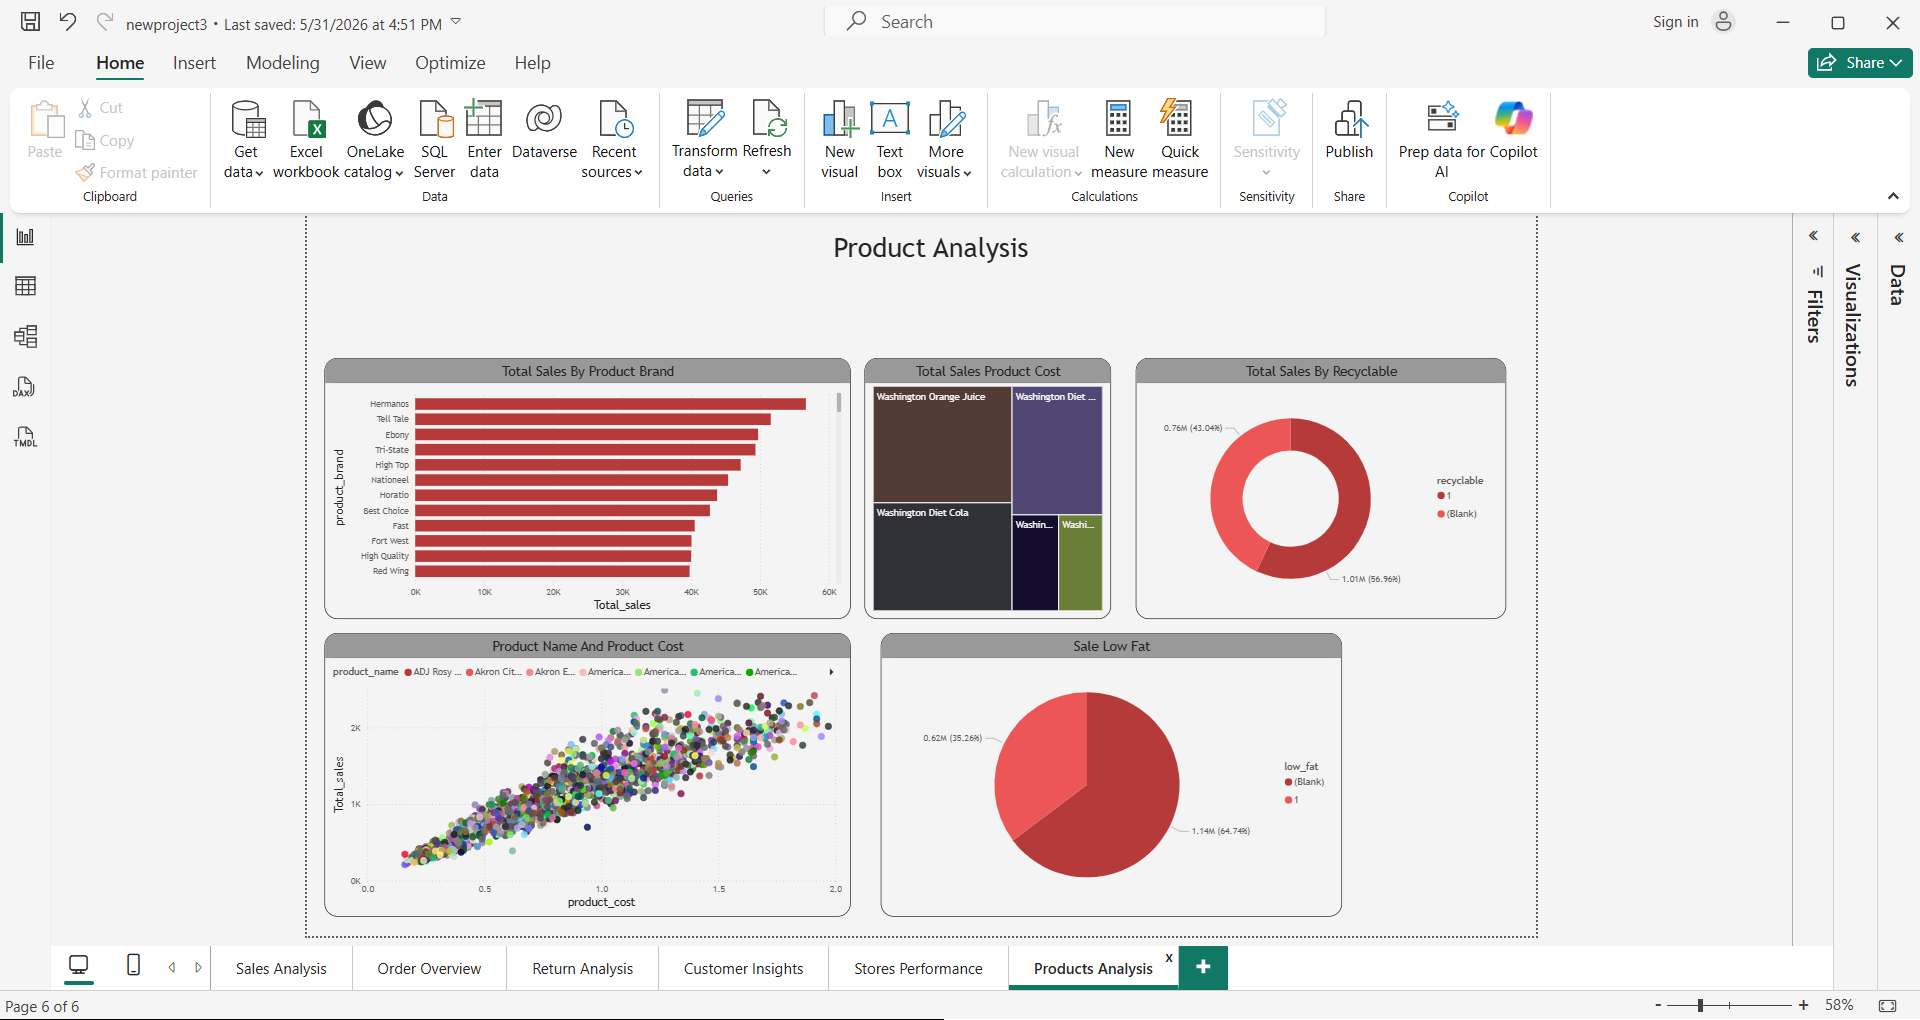

The dashboard page shown, as its layout file describes it:
{"tool":"powerbi","page":{"name":"Products Analysis ","canvas":[1700,1000],"ordinal":5},"visuals":[{"type":"treemap","title":"Total Sales Product Cost ","fields":{"Group":["Products.product_name"],"Values":["Transaction1997.Total_sales"]},"box":[770.9,200.5,340.8,360.9],"z":0},{"type":"barChart","title":"Total Sales By Product Brand ","fields":{"Category":["Products.product_brand"],"Y":["Transaction1997.Total_sales"]},"box":[23.7,200.5,727.2,360.9],"z":1000},{"type":"scatterChart","title":"Product Name And Product Cost ","fields":{"X":["Products.product_cost"],"Y":["Transaction1997.Total_sales"],"Series":["Products.product_name"]},"box":[23.7,581.4,727.2,391.8],"z":2000},{"type":"pieChart","title":"Sale Low Fat ","fields":{"Category":["Products.low_fat"],"Y":["Transaction1997.Total_sales"]},"box":[792.8,581.4,637.9,391.8],"z":3000},{"type":"donutChart","title":"Total Sales By Recyclable ","fields":{"Category":["Products.recyclable"],"Y":["Transaction1997.Total_sales"]},"box":[1146.3,200.5,512.1,360.9],"z":4000},{"type":"textbox","title":"Product Analysis ","box":[23.7,25.5,1676.7,123.9],"z":5000}]}

Visuals, with their boxes on the page's 1700x1000 design canvas (x1, y1, x2, y2). These are canvas units, not pixel positions in the 1920x1020 screenshot, which may show the page scaled, cropped or inside an application window:
"Total Sales Product Cost " treemap: 771 200 1112 561
"Total Sales By Product Brand " barChart: 24 200 751 561
"Product Name And Product Cost " scatterChart: 24 581 751 973
"Sale Low Fat " pieChart: 793 581 1431 973
"Total Sales By Recyclable " donutChart: 1146 200 1658 561
"Product Analysis " textbox: 24 26 1700 149
